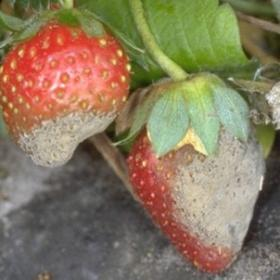Gray Mold: (126, 116, 267, 264), (2, 93, 129, 168)
